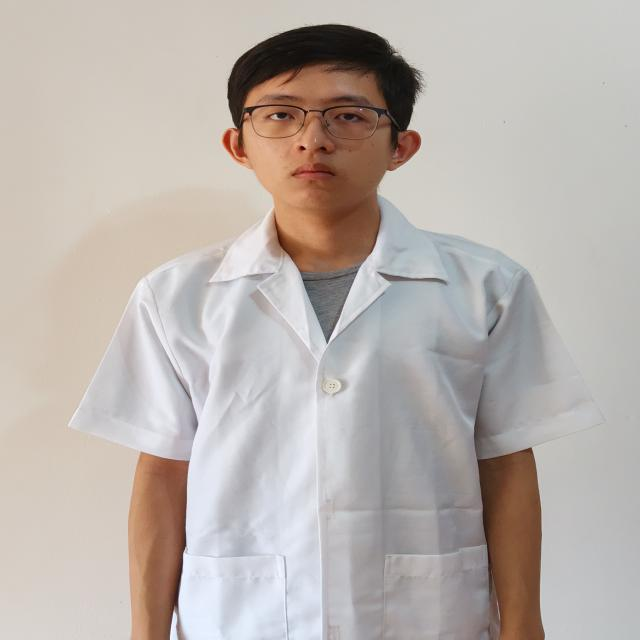person_with_labcoat: (70, 25, 602, 640)
